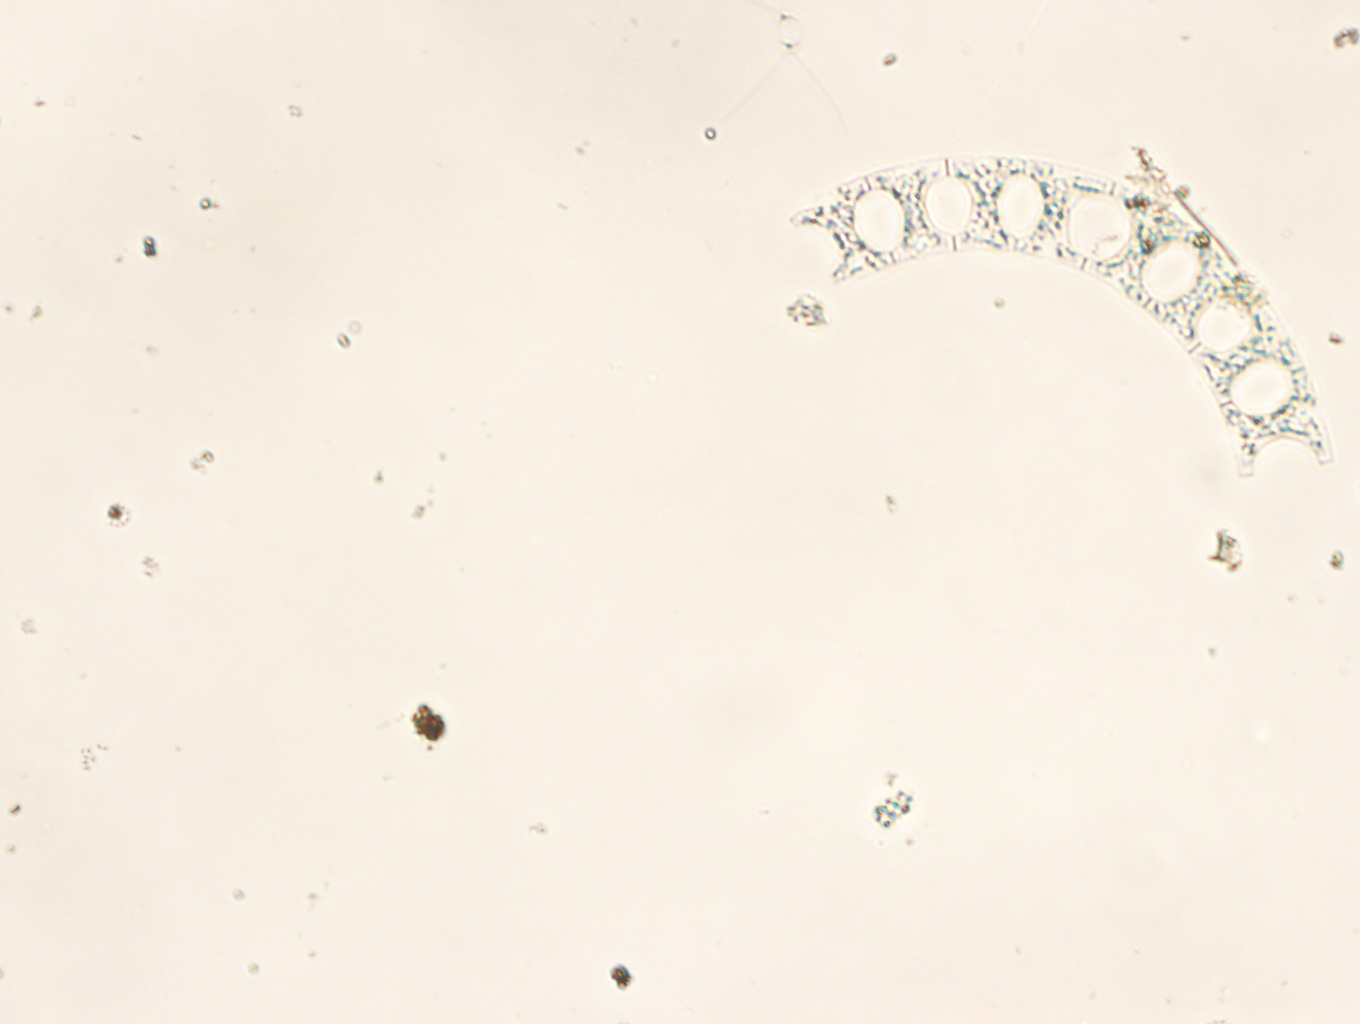eucampia: (787, 158, 1334, 481)
